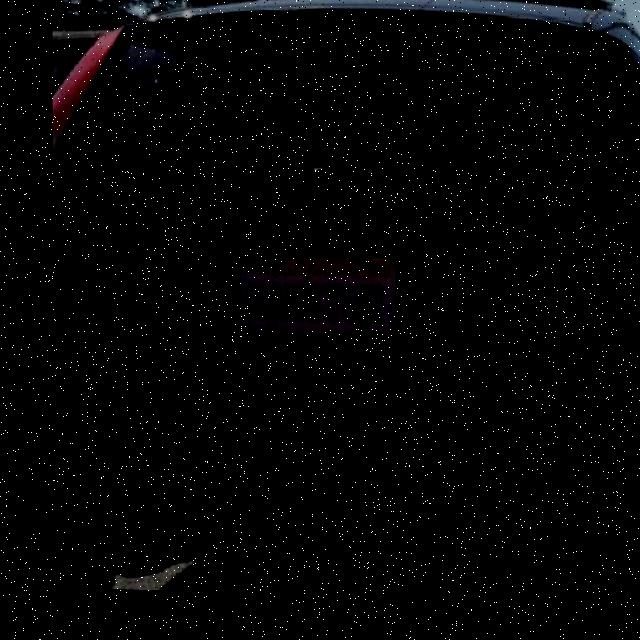license_plate: (214, 241, 396, 364)
